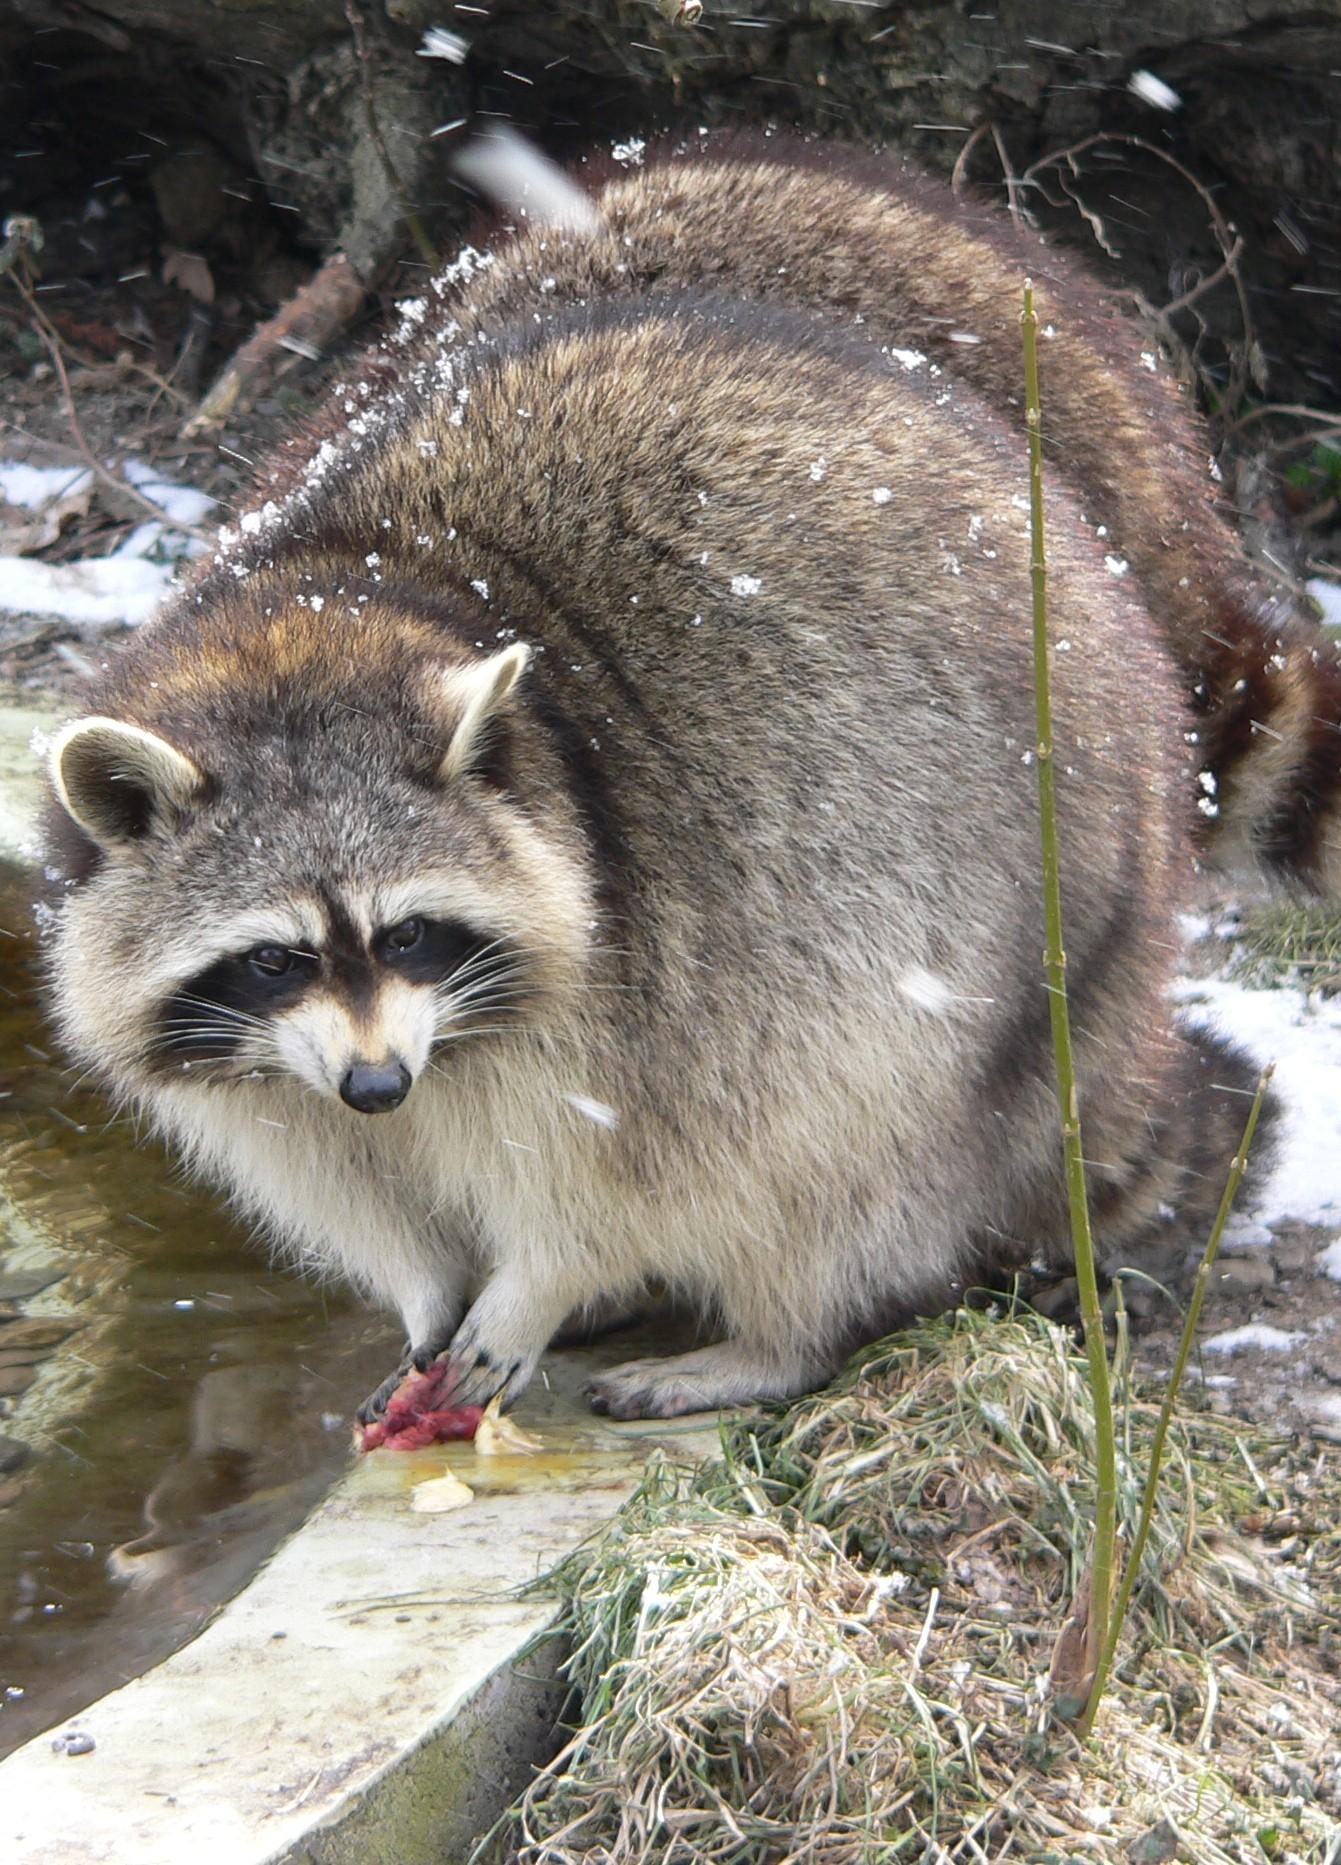raccoon: (0, 87, 1341, 1477)
